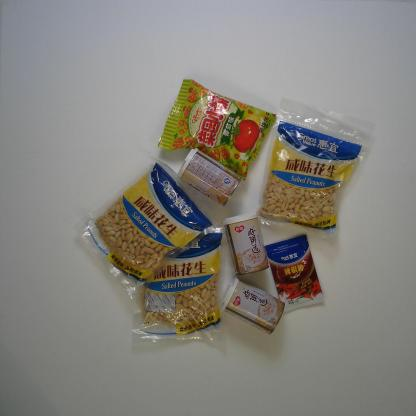Canned Food: (176, 146, 244, 208), (219, 276, 286, 335), (222, 210, 270, 277)
Dried Fruit: (74, 154, 218, 304), (254, 96, 376, 245), (124, 225, 227, 351)
Puffed Food: (157, 77, 278, 182)
Seasoner: (264, 233, 326, 315)
